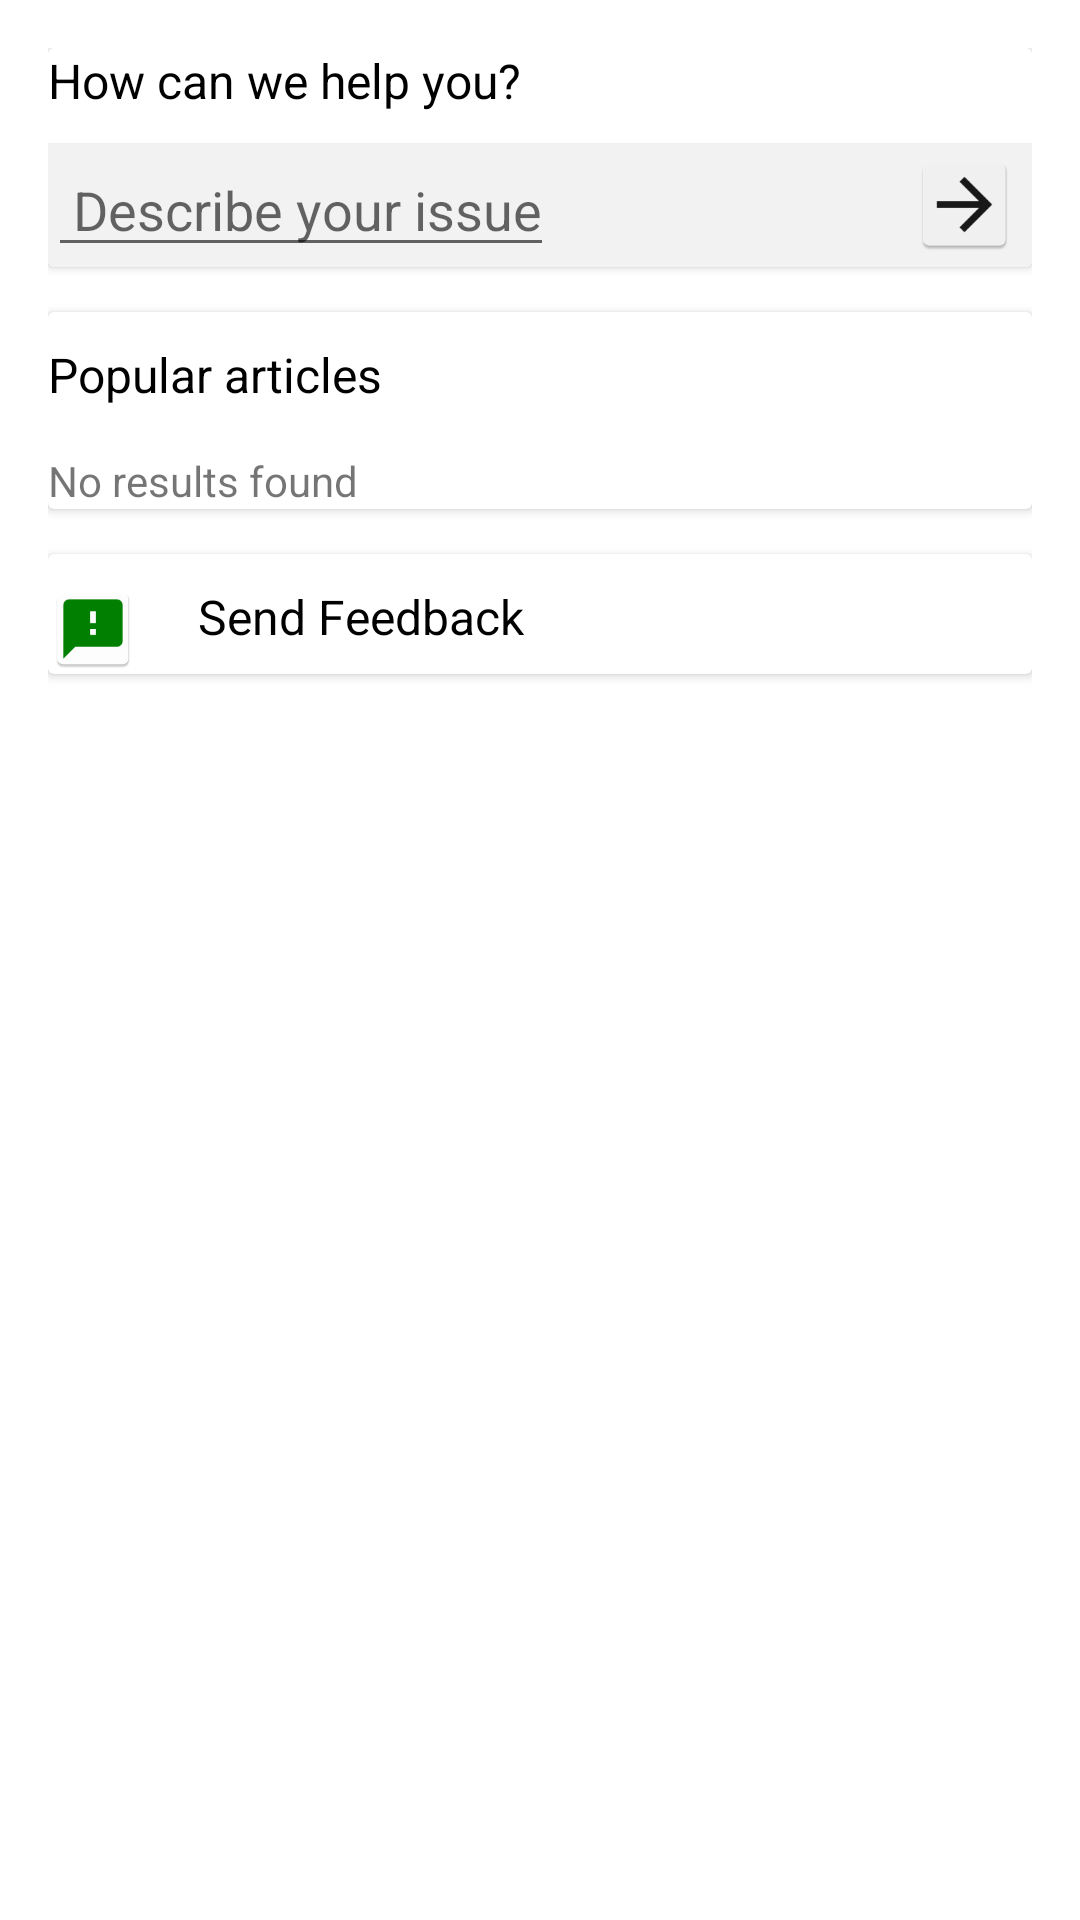

Where to tap for icons on this 1080px×1920px app screen, as [x,y]:
arrow: [965,210]
